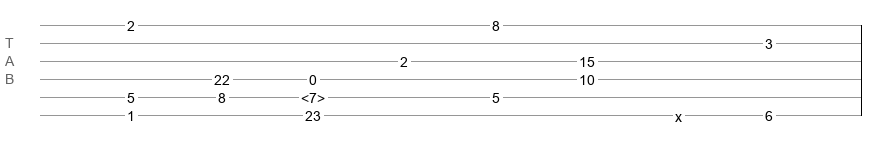0: (309, 72, 317, 82)
1: (127, 108, 135, 118)
10: (579, 72, 595, 82)
15: (579, 54, 595, 64)
2: (127, 18, 135, 28), (400, 54, 408, 64)
22: (214, 72, 230, 82)
23: (305, 108, 321, 118)
3: (765, 36, 773, 46)
5: (127, 90, 135, 100), (492, 90, 500, 100)
6: (765, 108, 773, 118)
8: (218, 90, 226, 100), (492, 18, 500, 28)
harmonic: (301, 90, 325, 100)
x: (675, 109, 682, 117)
